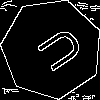U: (27, 24, 86, 80)
